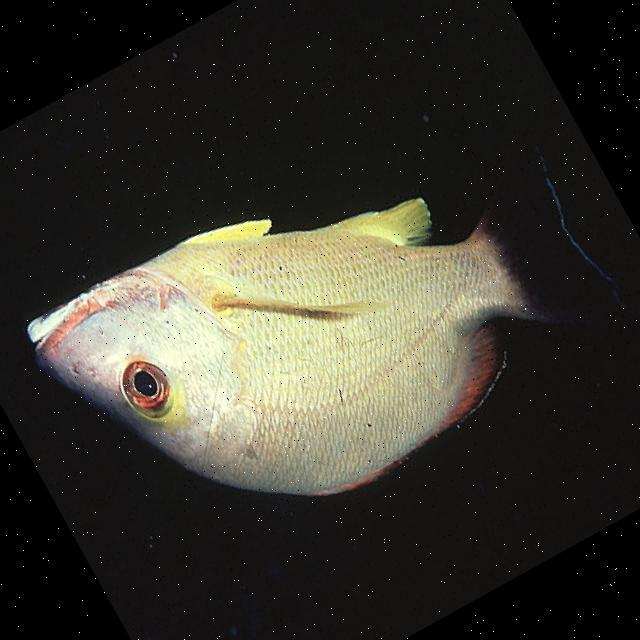ikan: (14, 59, 640, 600)
